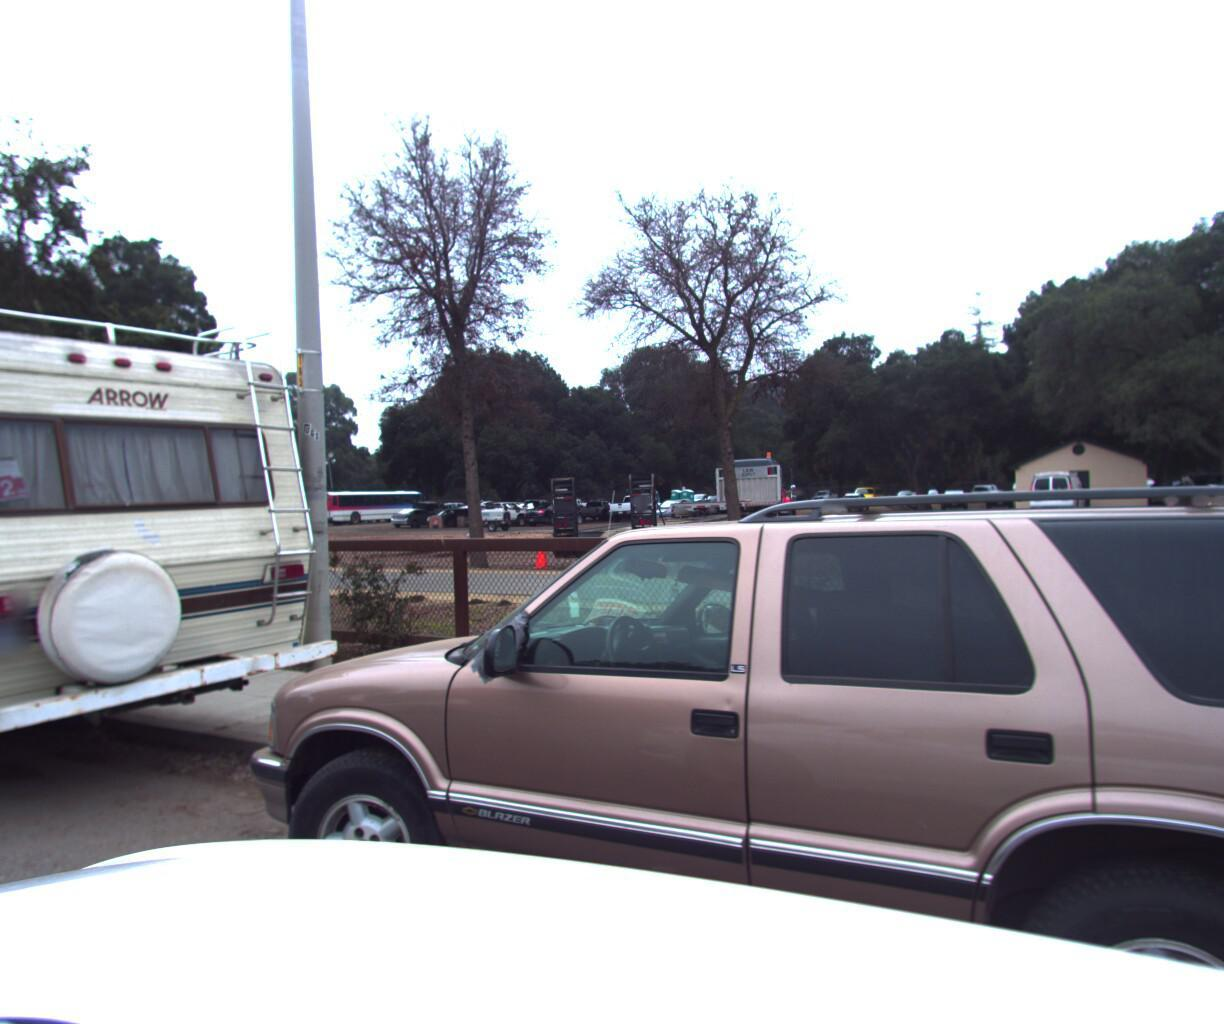car: (164, 472, 1224, 1024)
other_vehicle: (0, 216, 350, 869)
